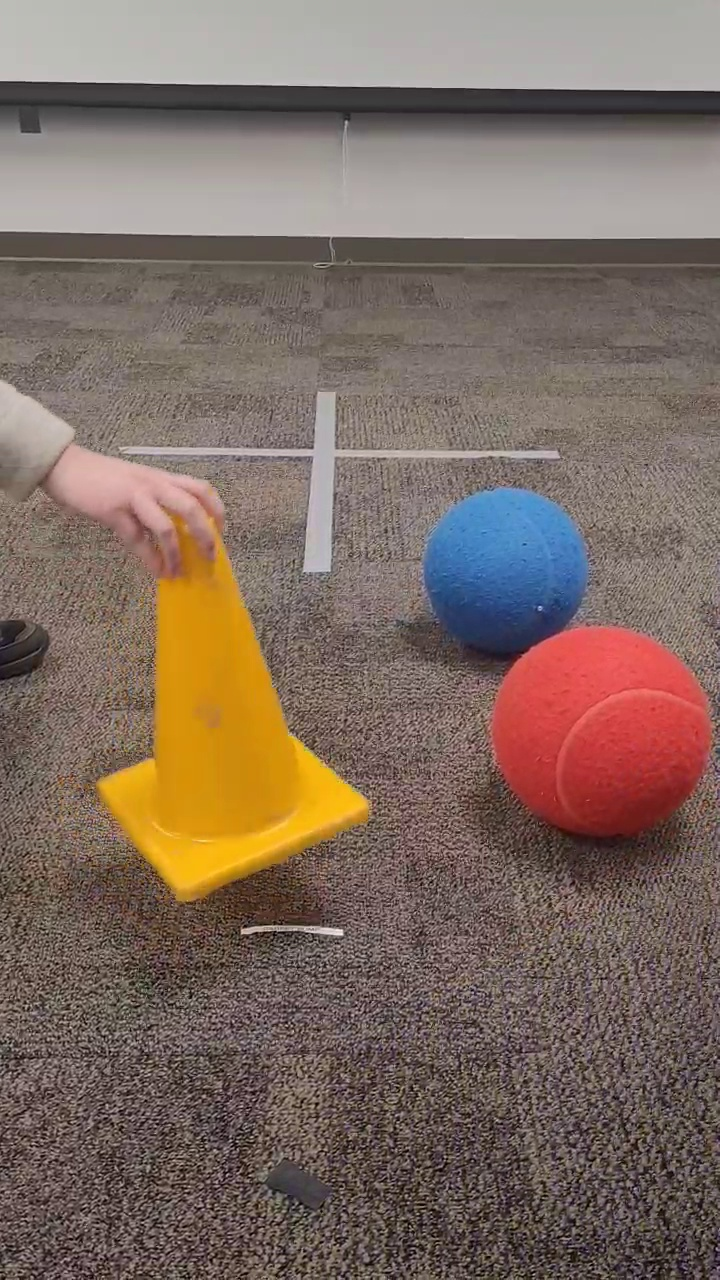ball: (488, 621, 713, 843), (421, 482, 591, 656)
cone: (92, 502, 375, 909)
foot: (1, 613, 52, 685)
hand: (1, 376, 228, 578)
